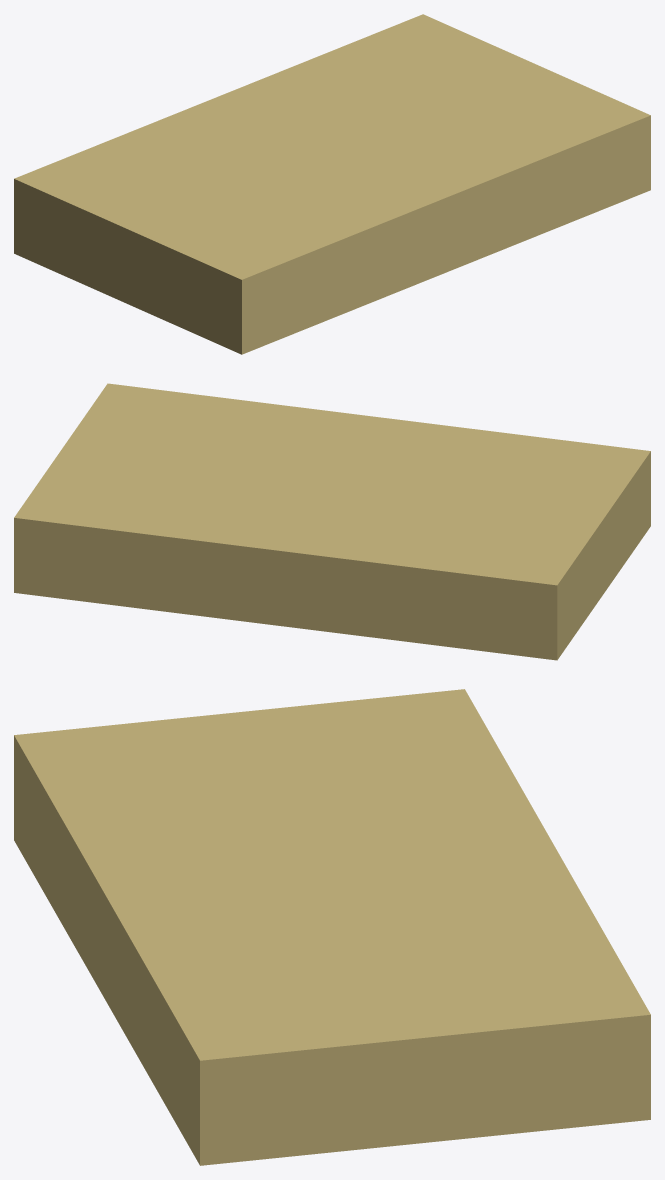
The picture shows the model from 3 angles, top to bottom: view 1: azimuth 30°, elevation 25°; view 2: azimuth 150°, elevation 25°; view 3: azimuth 270°, elevation 25°; orthographic projection. The views are drawn at different scales.
Visible parts, largest first — view 1: RUN-018-S00-ribbon; view 2: RUN-018-S00-ribbon; view 3: RUN-018-S00-ribbon.
Part boxes in pixels (box(x1,y1,x2,y2)): RUN-018-S00-ribbon: box(14, 14, 650, 354); RUN-018-S00-ribbon: box(14, 383, 650, 660); RUN-018-S00-ribbon: box(14, 689, 650, 1165).
Bounding box in the file's own units: 0.2654 × 0.035 × 0.1923.
